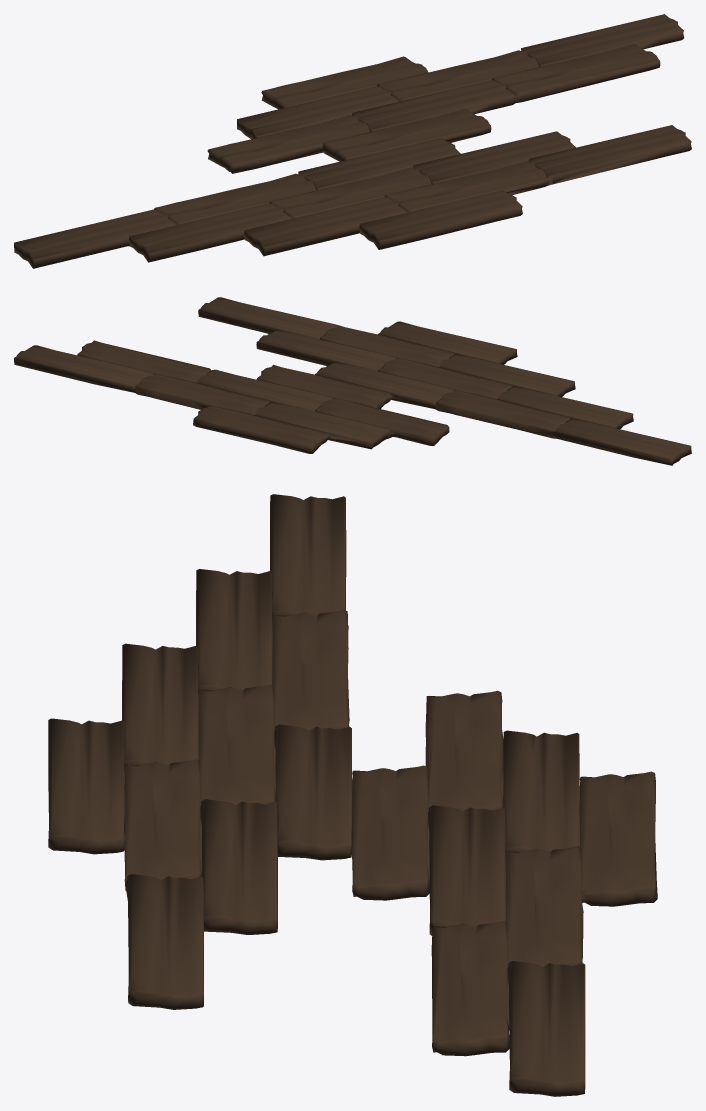
File: encounterFloor01.dae
3 renders of one model, top to bottom at view 1: azimuth 30°, elevation 25°; view 2: azimuth 150°, elevation 25°; view 3: azimuth 270°, elevation 25°, orthographic. The views are drawn at different scales.
Visible parts, largest first — view 1: Broken_Wood; view 2: Broken_Wood; view 3: Broken_Wood.
Boxes of the visible parts, box(x1,y1,x2,y2) form: Broken_Wood: box(14, 14, 691, 268); Broken_Wood: box(14, 297, 691, 465); Broken_Wood: box(48, 494, 657, 1096).
Bounding box in the file's own units: 39.59 × 17.36 × 0.6508.
